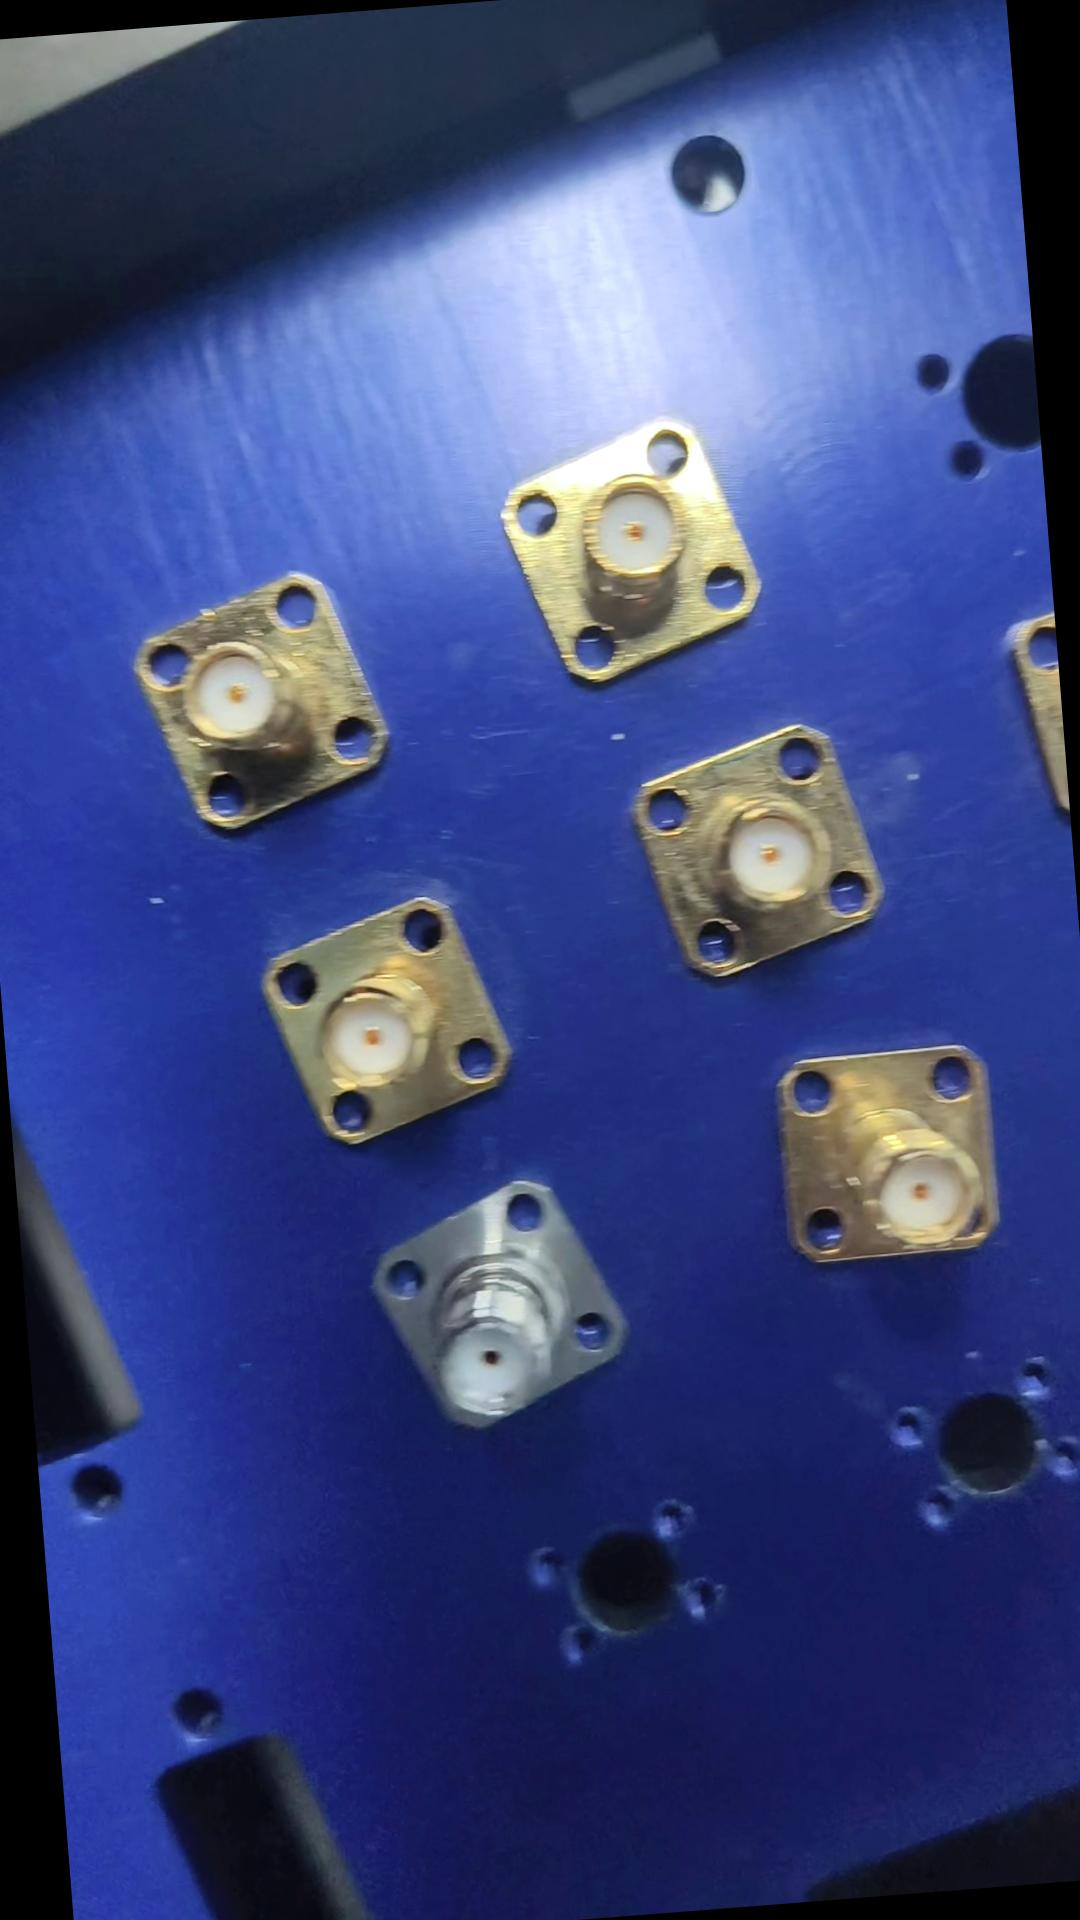SMA: (489, 407, 773, 691), (120, 560, 397, 836), (368, 1172, 641, 1443), (629, 719, 894, 989), (262, 890, 526, 1153), (771, 1034, 1011, 1273)
